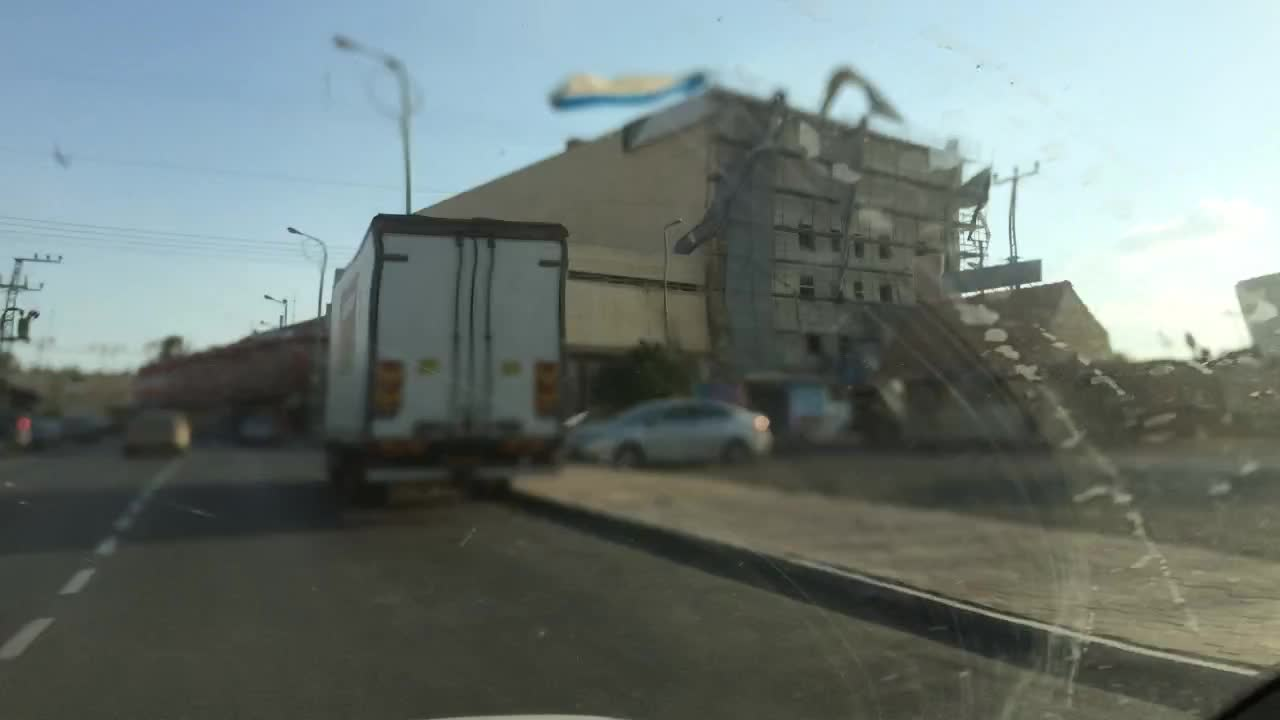car: (568, 389, 776, 470), (855, 372, 967, 453), (1141, 353, 1226, 444), (1196, 346, 1277, 438), (1099, 357, 1179, 449), (1053, 368, 1137, 453), (784, 375, 863, 456), (967, 373, 1048, 450), (118, 405, 189, 454), (10, 405, 58, 450), (230, 400, 276, 442), (56, 413, 105, 447)
truck: (321, 212, 568, 493)
